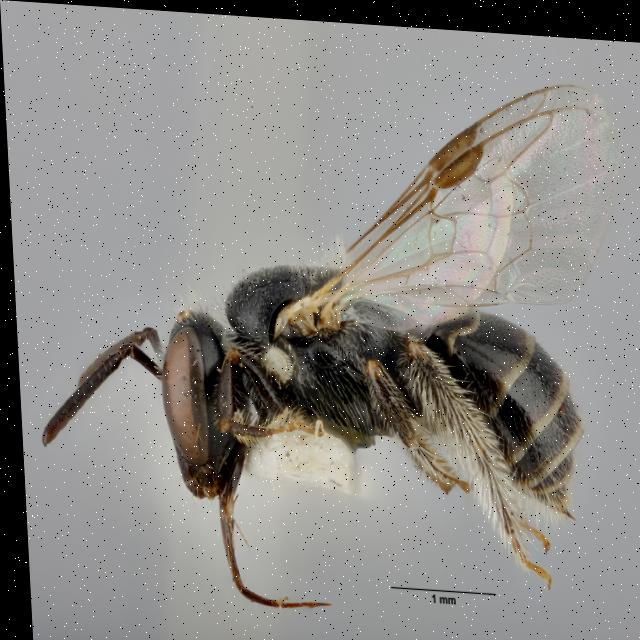Braunsapis: (51, 32, 617, 596)
